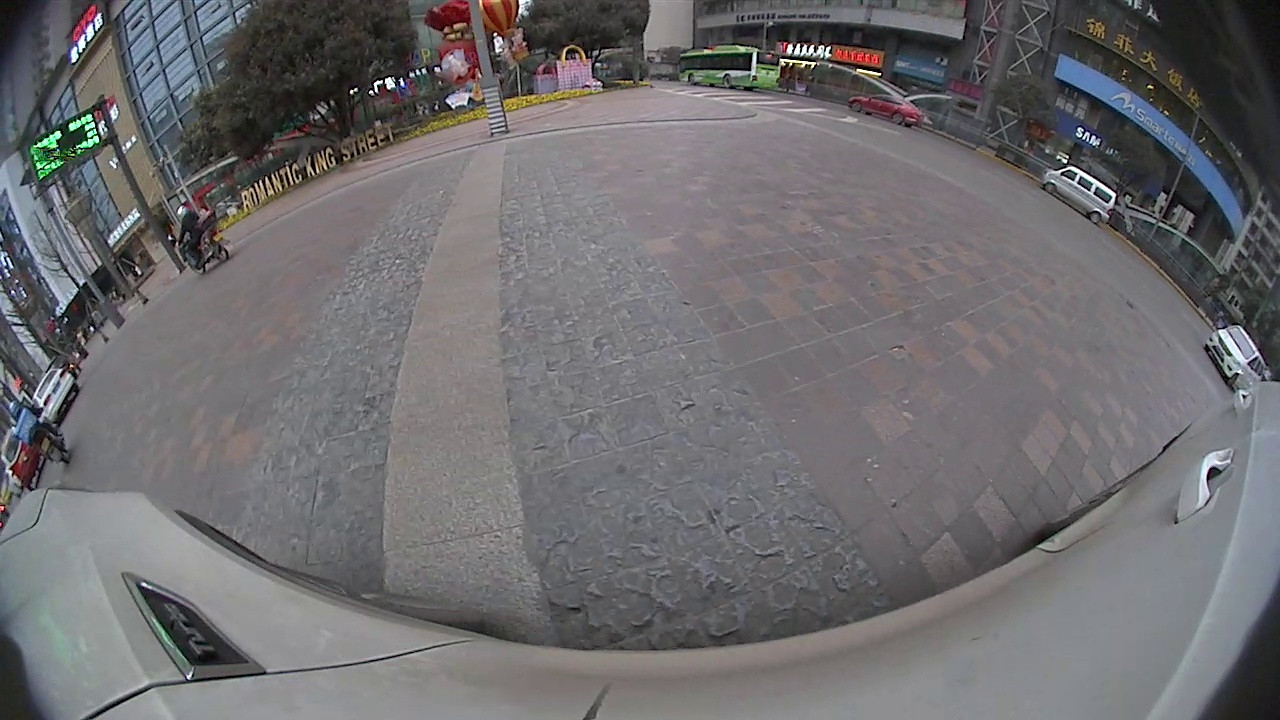bus: (680, 46, 784, 91)
car: (1042, 165, 1116, 224), (1204, 325, 1265, 393), (34, 367, 80, 423), (847, 94, 921, 127)
front: (1040, 179, 1059, 198), (847, 98, 865, 115)
rear: (719, 73, 736, 91), (890, 110, 907, 128), (1089, 209, 1103, 226)
rider: (10, 401, 68, 467), (178, 208, 230, 273)
